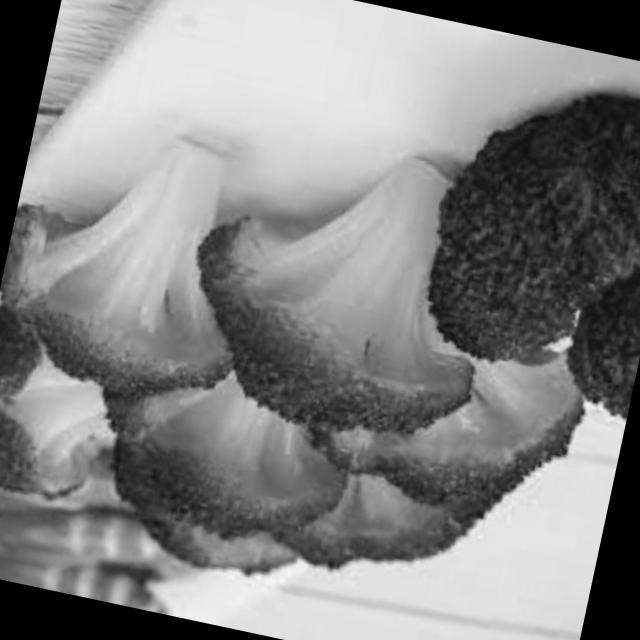bong cai xanh: (0, 336, 547, 630), (132, 104, 517, 476), (0, 57, 289, 412), (422, 63, 640, 438)
